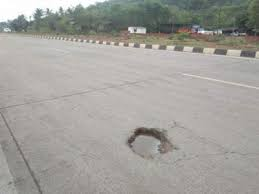Pothole: (123, 123, 175, 161)
